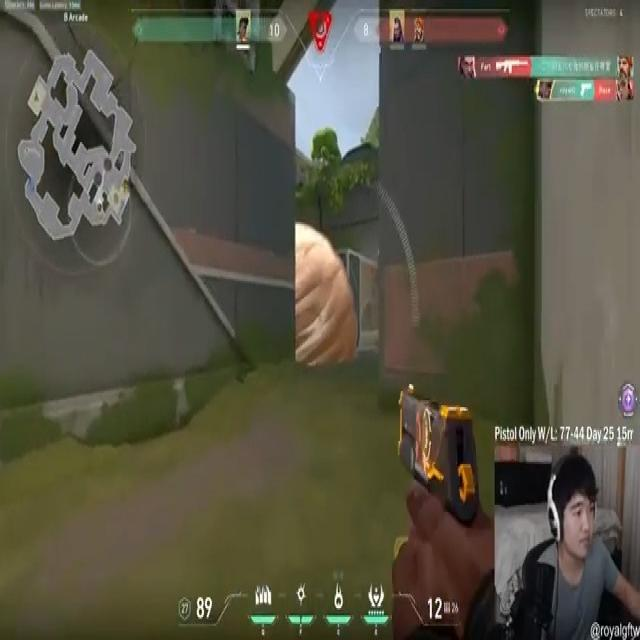smoke: (294, 220, 361, 364)
